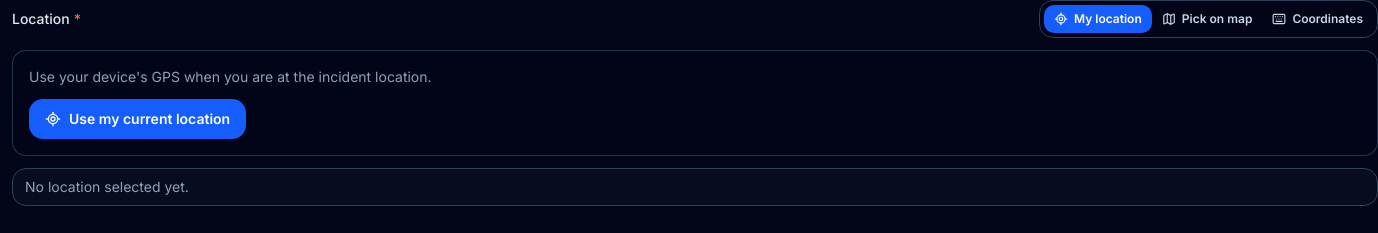
Scenario: LocationPicker › accepts manual coordinates once both are valid and flags invalid ones
This screenshot has width=1378, height=233.
Later steps or results of the test are not shown.
Click the button "Coordinates": (1318, 19) [1262,5,1373,33]
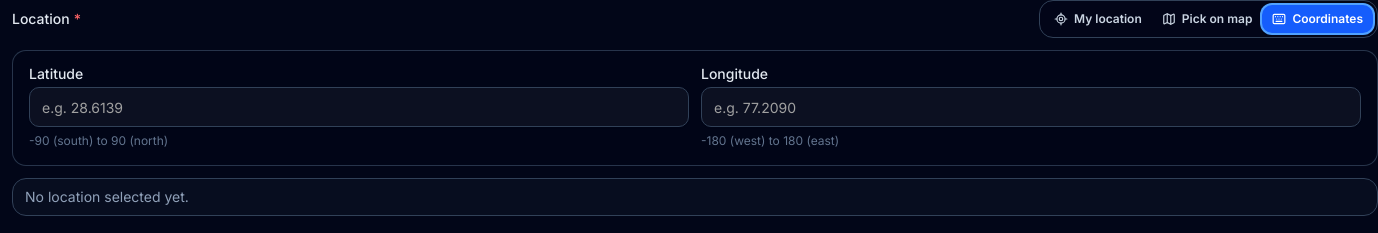
In the field labelled "Latitude": (359, 107) [29,87,689,127], type "95"
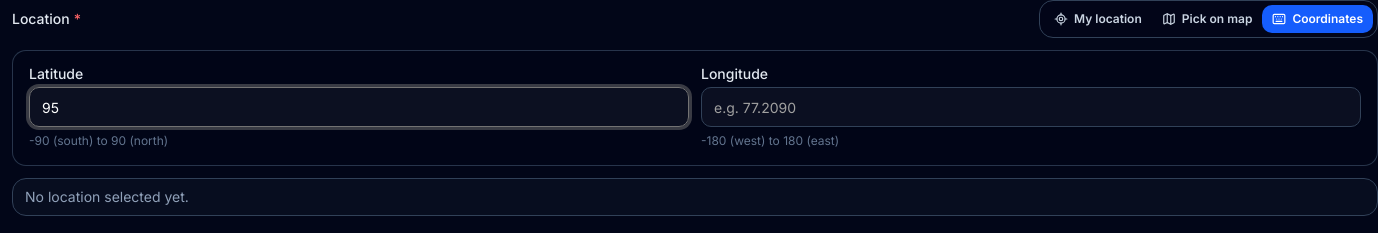
In the field labelled "Longitude": (1031, 107) [701,87,1361,127], type "77,25"
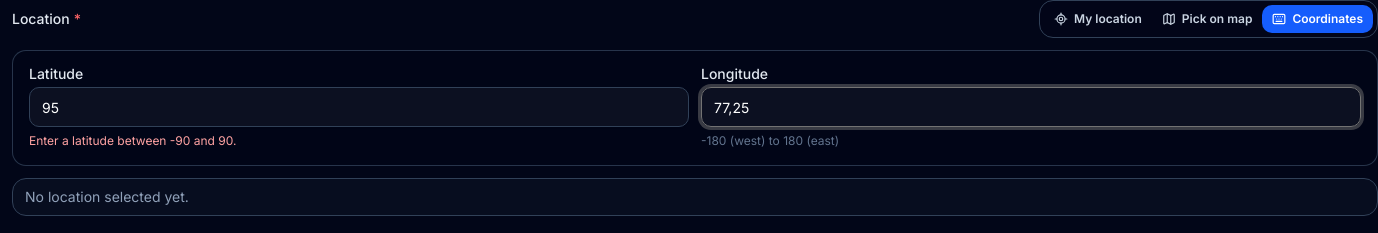
Press Tab
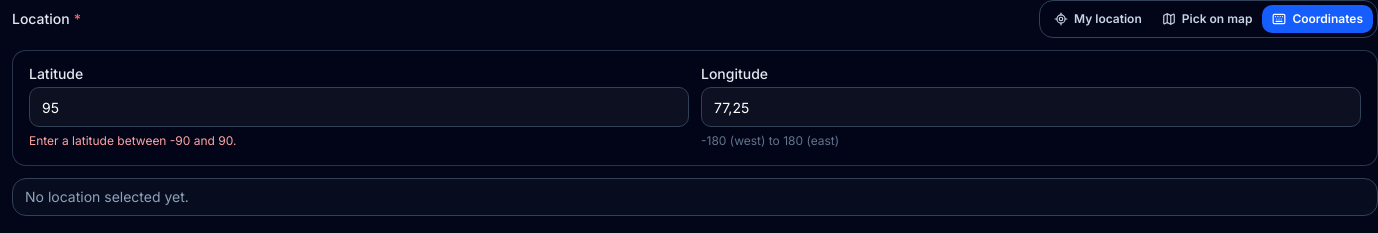
expect the text "Enter a latitude between -90 and 90." is shown: met, box [29,133,236,148]
